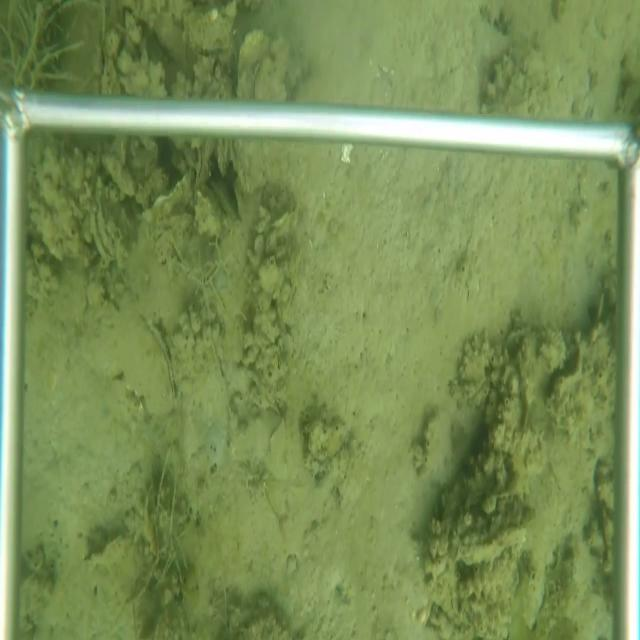Oyster-Closed: (120, 305, 177, 418), (194, 140, 206, 199)
Oyster-Open: (88, 202, 119, 265)
